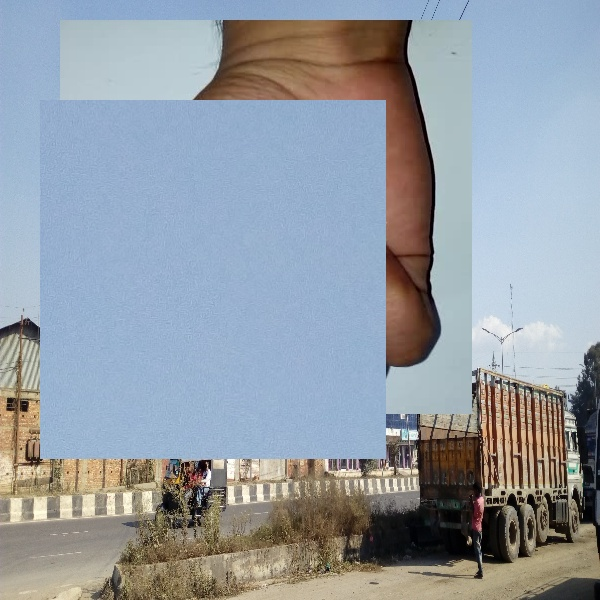A: (40, 100, 386, 459)
